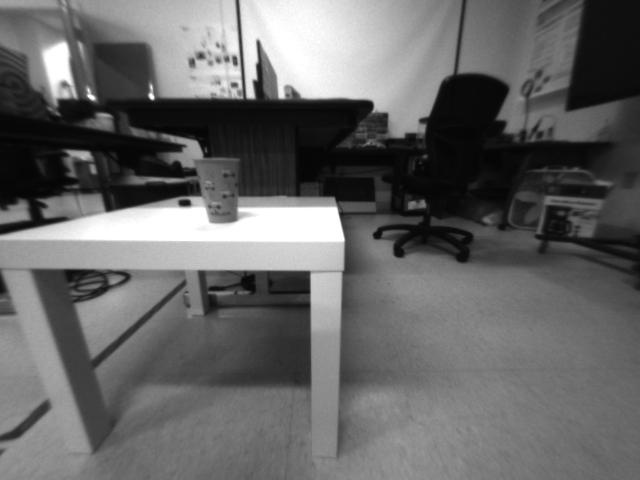coffee_cup: (191, 157, 244, 222)
